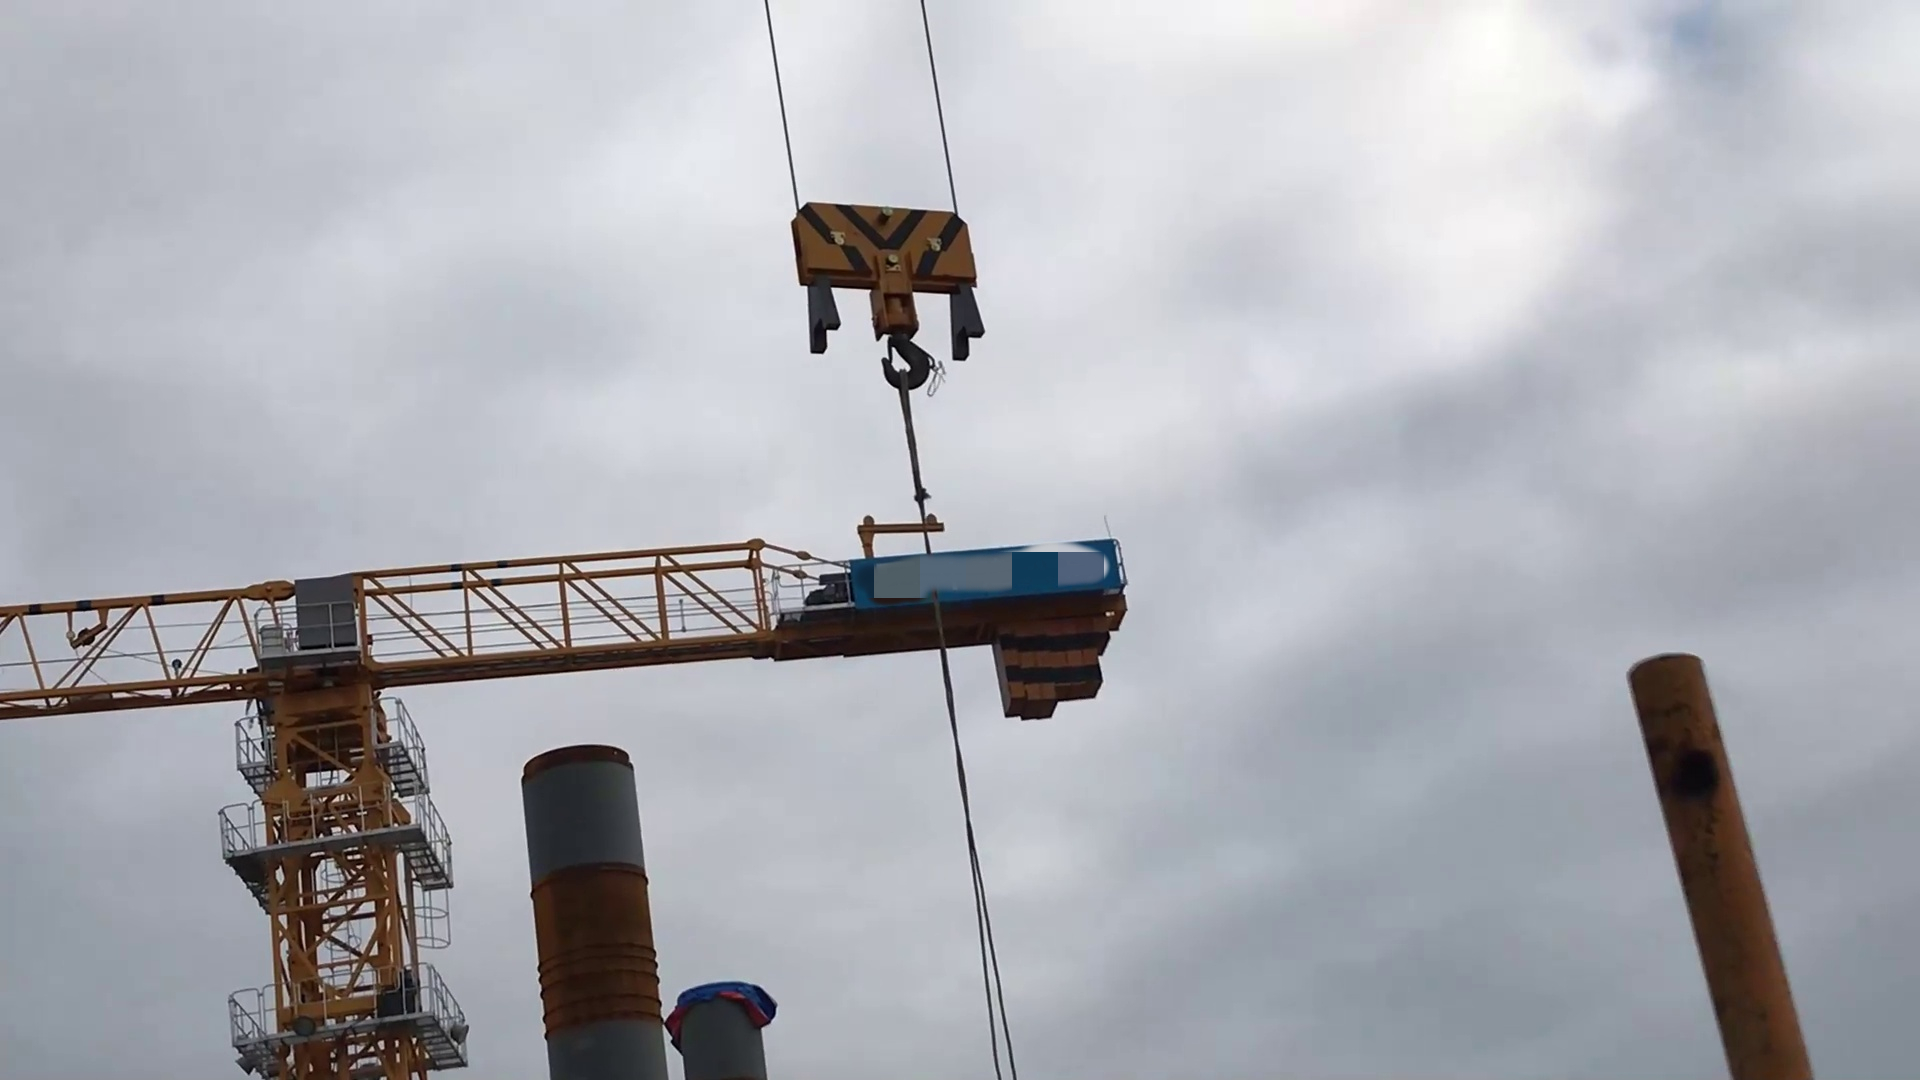hook: (781, 191, 996, 402)
